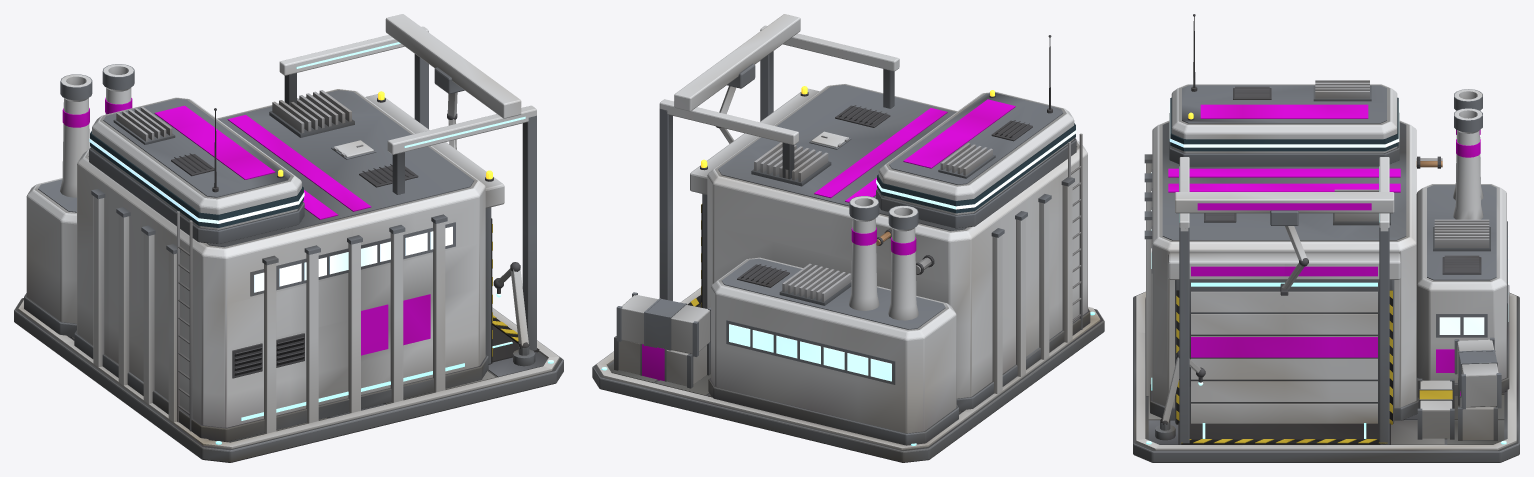
File: factory_future.glb
The picture shows the model from 3 angles, left to right: view 1: azimuth 30°, elevation 25°; view 2: azimuth 150°, elevation 25°; view 3: azimuth 270°, elevation 25°; orthographic projection. The views are drawn at different scales.
Parts seen in each view (by area): view 1: Body; view 2: Body; view 3: Body.
Part boxes in pixels (x1=…): Body: x1=14, y1=14, x2=563, y2=462; Body: x1=592, y1=14, x2=1104, y2=462; Body: x1=1133, y1=14, x2=1519, y2=462.
Bounding box in the file's own units: 6 × 5.17 × 6.
Materials: 1 (1 with a texture image).
